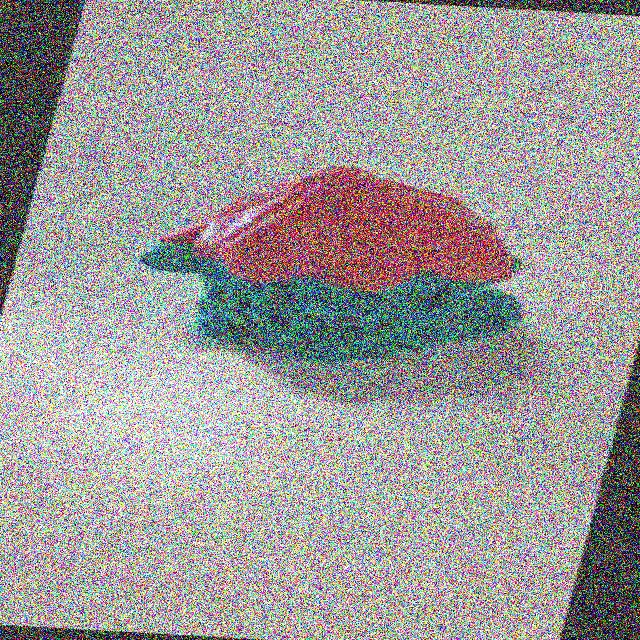House: (94, 139, 576, 377)
